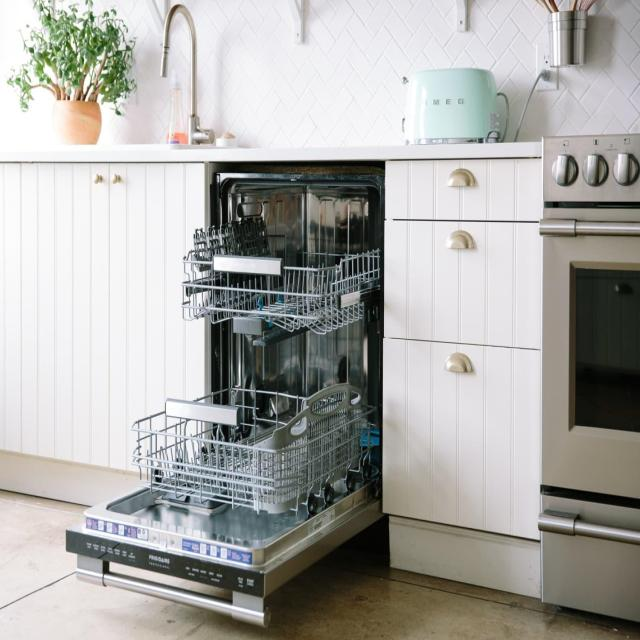dishwasher: (179, 136, 391, 640)
